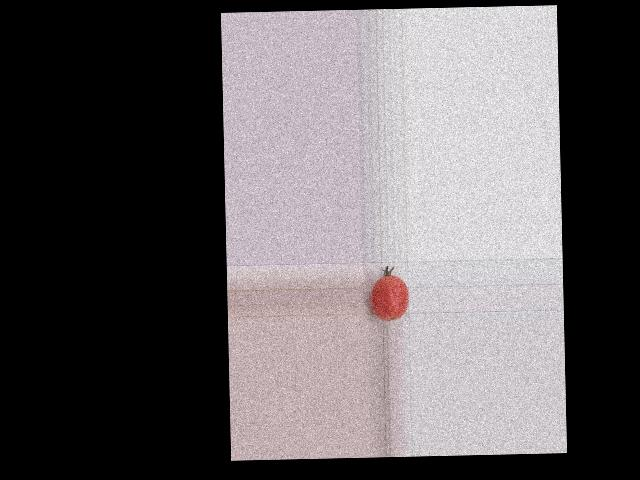tomato: (370, 275, 409, 321)
